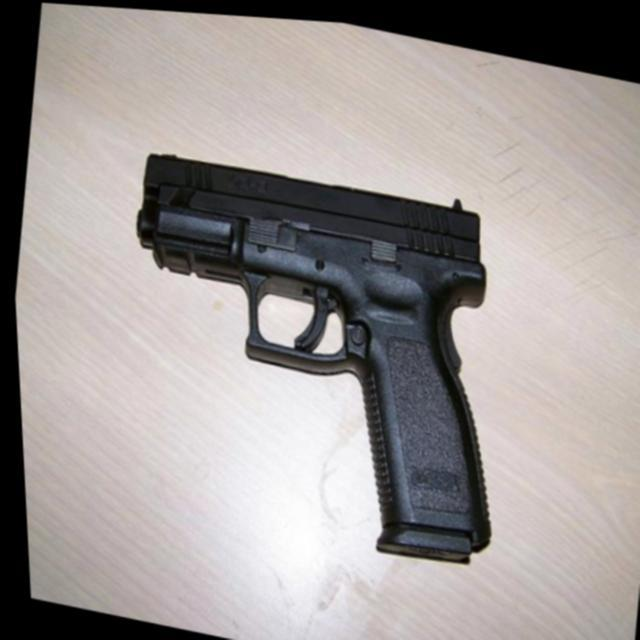weapon: (90, 127, 533, 569)
